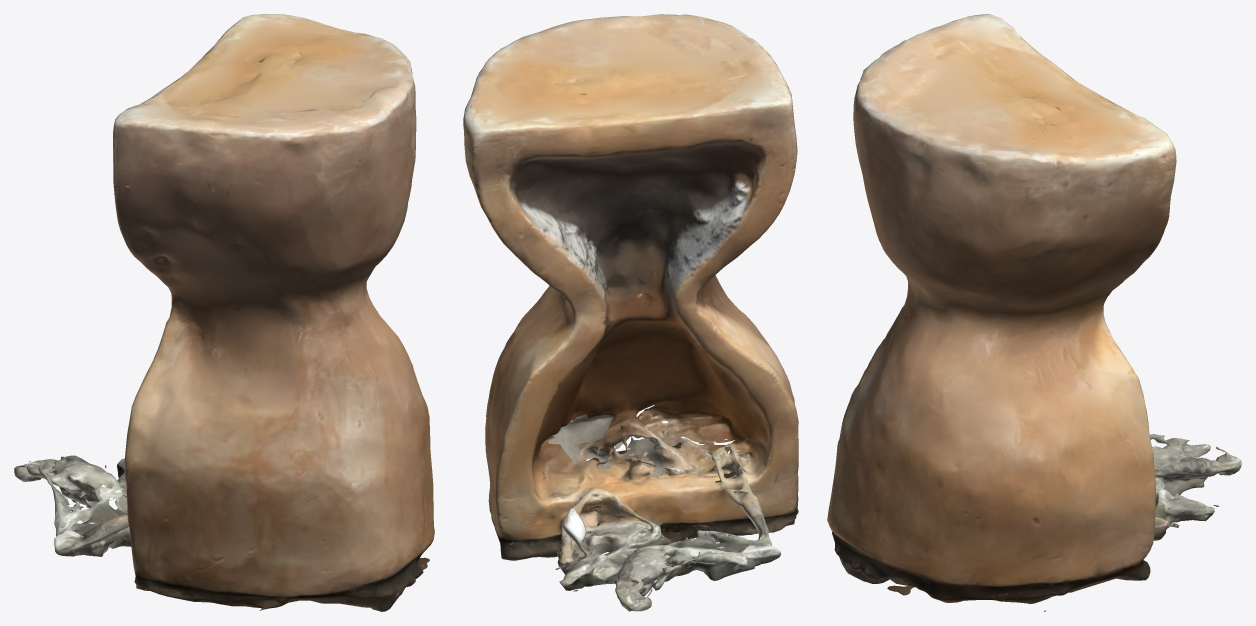
The picture shows the model from 3 angles, left to right: view 1: azimuth 30°, elevation 25°; view 2: azimuth 150°, elevation 25°; view 3: azimuth 270°, elevation 25°; orthographic projection. The views are drawn at different scales.
Parts seen in each view (by area): view 1: Mesh_0.003; view 2: Mesh_0.003; view 3: Mesh_0.003.
Part boxes in pixels (x1=…): Mesh_0.003: x1=14, y1=14, x2=434, y2=611; Mesh_0.003: x1=463, y1=14, x2=798, y2=611; Mesh_0.003: x1=827, y1=14, x2=1241, y2=611.
Size of the model in its own units: 1.21 by 1.76 by 1.39.
Materials: 10 (9 with a texture image).
